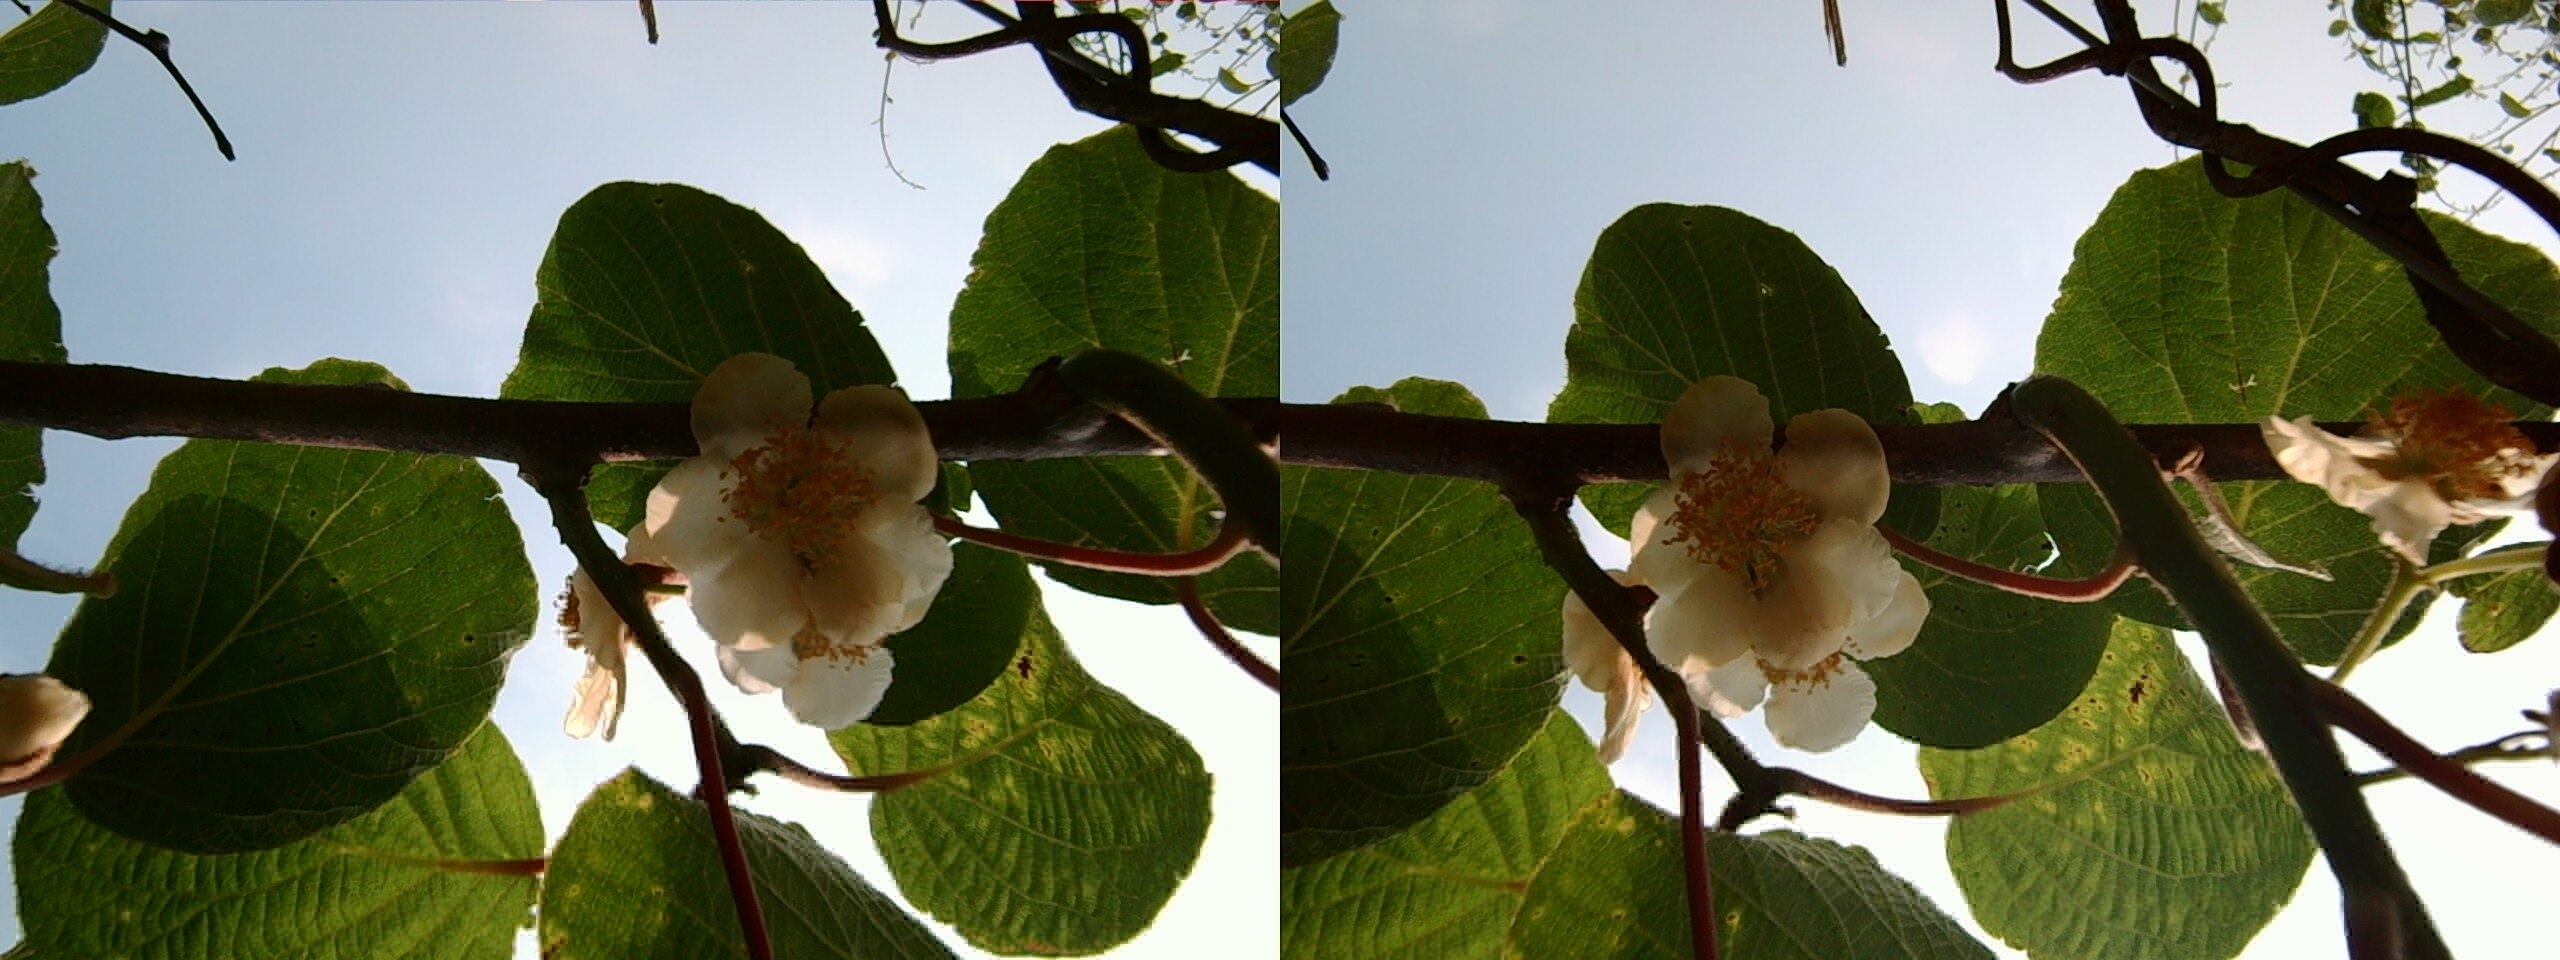flower: (645, 366, 942, 696), (1610, 384, 1905, 699)
